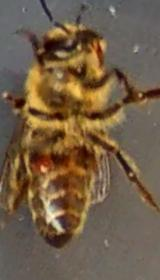varroa_mite: (24, 140, 62, 181)
